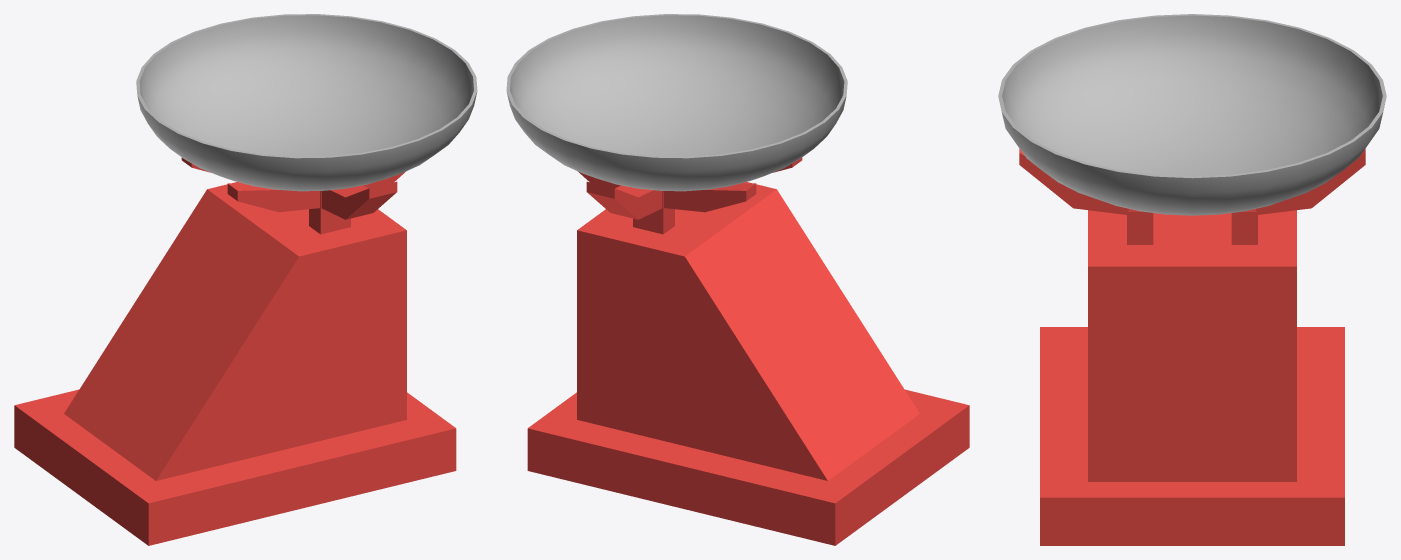
File: Props_Neraca.fbx
3 views of the same model, side by side, from view 1: azimuth 30°, elevation 25°; view 2: azimuth 150°, elevation 25°; view 3: azimuth 270°, elevation 25° (orthographic). The views are drawn at different scales.
Parts seen in each view (by area): view 1: Props_Neraca; view 2: Props_Neraca; view 3: Props_Neraca.
Part boxes in pixels (x1,y1,x2,y2): Props_Neraca: (14,14,477,545); Props_Neraca: (506,14,969,545); Props_Neraca: (998,14,1386,545).
Bounding box in the file's own units: 36.34 × 33.1 × 28.82.
